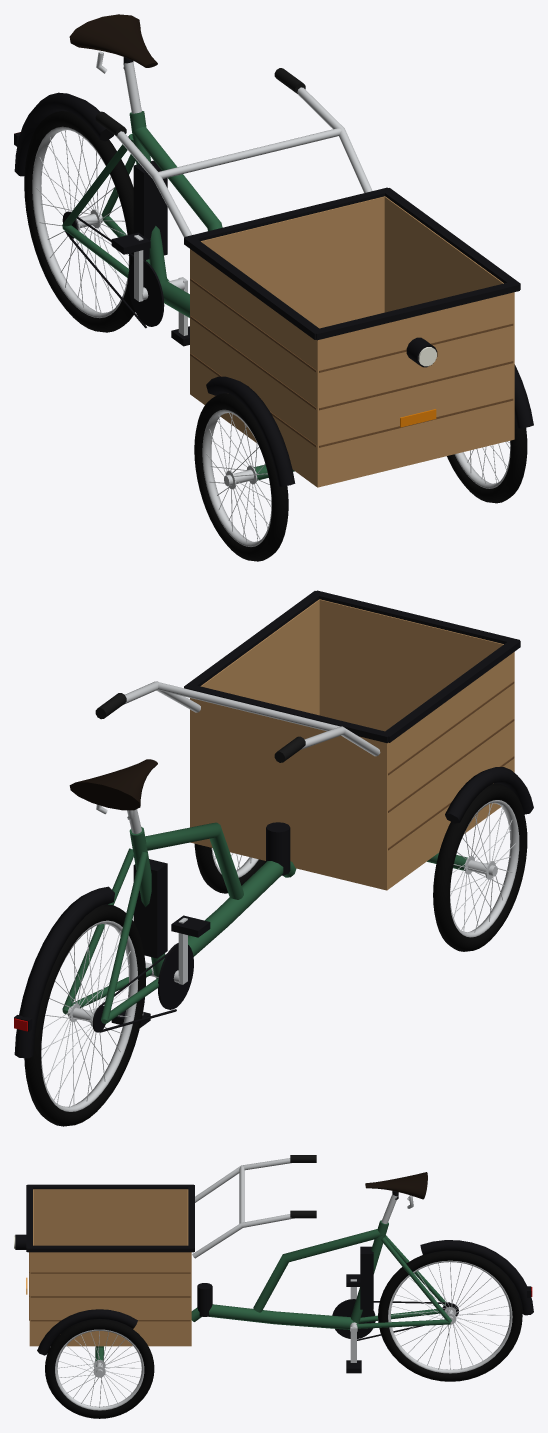
The model's file is trike.glb.
The picture shows the model from 3 angles, top to bottom: view 1: azimuth 30°, elevation 25°; view 2: azimuth 150°, elevation 25°; view 3: azimuth 270°, elevation 25°; orthographic projection. The views are drawn at different scales.
Visible parts, largest first — view 1: fork, frame, wheel_rear, wheel_front_r, wheel_front_l, crank, light_front; view 2: fork, frame, wheel_rear, wheel_front_r, crank, wheel_front_l; view 3: fork, frame, wheel_rear, wheel_front_l, crank.
Boxes of the visible parts, left/top/right/bottom form: fork: left=95, top=68, right=533, bottom=487; frame: left=14, top=14, right=222, bottom=328; wheel_rear: left=24, top=111, right=145, bottom=332; wheel_front_r: left=194, top=393, right=288, bottom=561; wheel_front_l: left=447, top=417, right=527, bottom=503; crank: left=128, top=235, right=187, bottom=335; light_front: left=406, top=337, right=437, bottom=367; fork: left=95, top=590, right=533, bottom=890; frame: left=14, top=759, right=290, bottom=1058; wheel_rear: left=24, top=904, right=146, bottom=1126; wheel_front_r: left=433, top=783, right=527, bottom=951; crank: left=142, top=918, right=193, bottom=1015; wheel_front_l: left=194, top=844, right=265, bottom=893; fork: left=26, top=1155, right=316, bottom=1361; frame: left=197, top=1172, right=533, bottom=1340; wheel_rear: left=378, top=1251, right=522, bottom=1381; wheel_front_l: left=45, top=1319, right=154, bottom=1418; crank: left=332, top=1279, right=375, bottom=1362.
Bounding box in the file's own units: 0.9 × 1.03 × 2.37.
